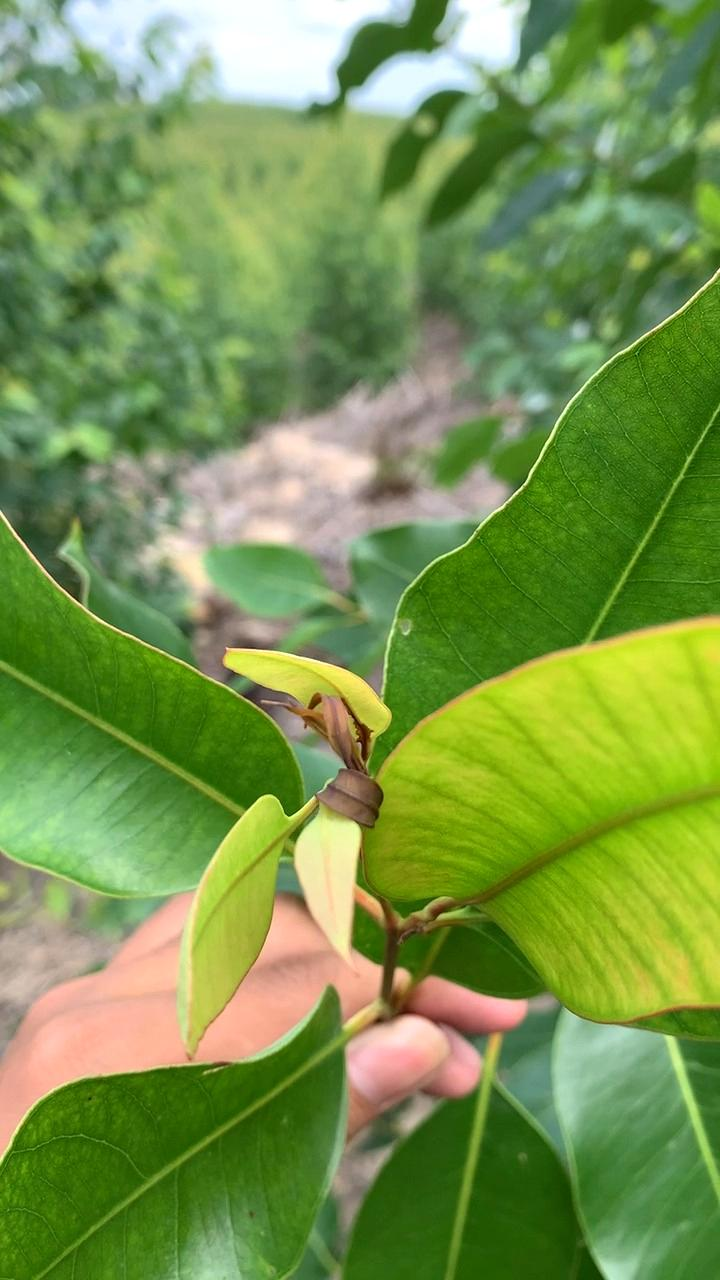Helopeltis-Withered Sprout: (260, 668, 405, 857)
